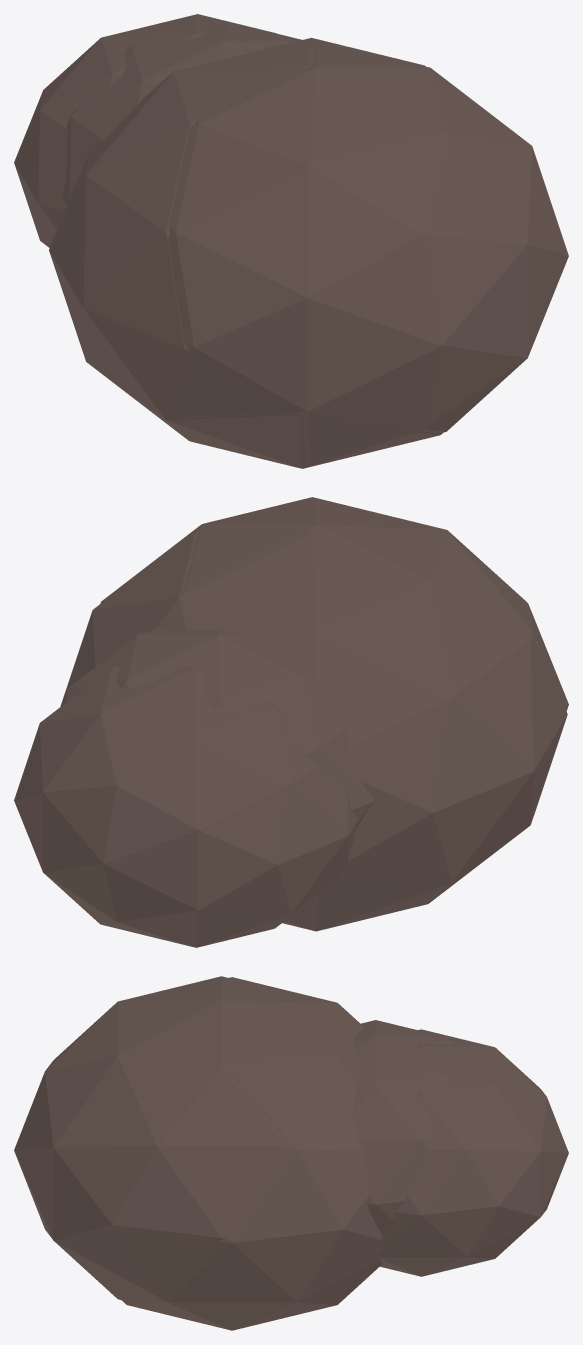
The model's file is bush_1_15.ol.glb.
3 views of the same model, one above another, from view 1: azimuth 30°, elevation 25°; view 2: azimuth 150°, elevation 25°; view 3: azimuth 270°, elevation 25° (orthographic). The views are drawn at different scales.
Bounding box in the file's own units: 2.16 × 1.73 × 2.84.
